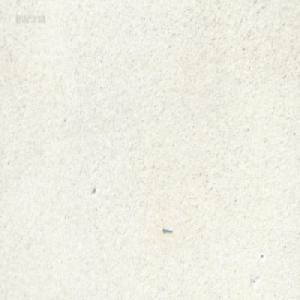Nail: (162, 226, 172, 234)
